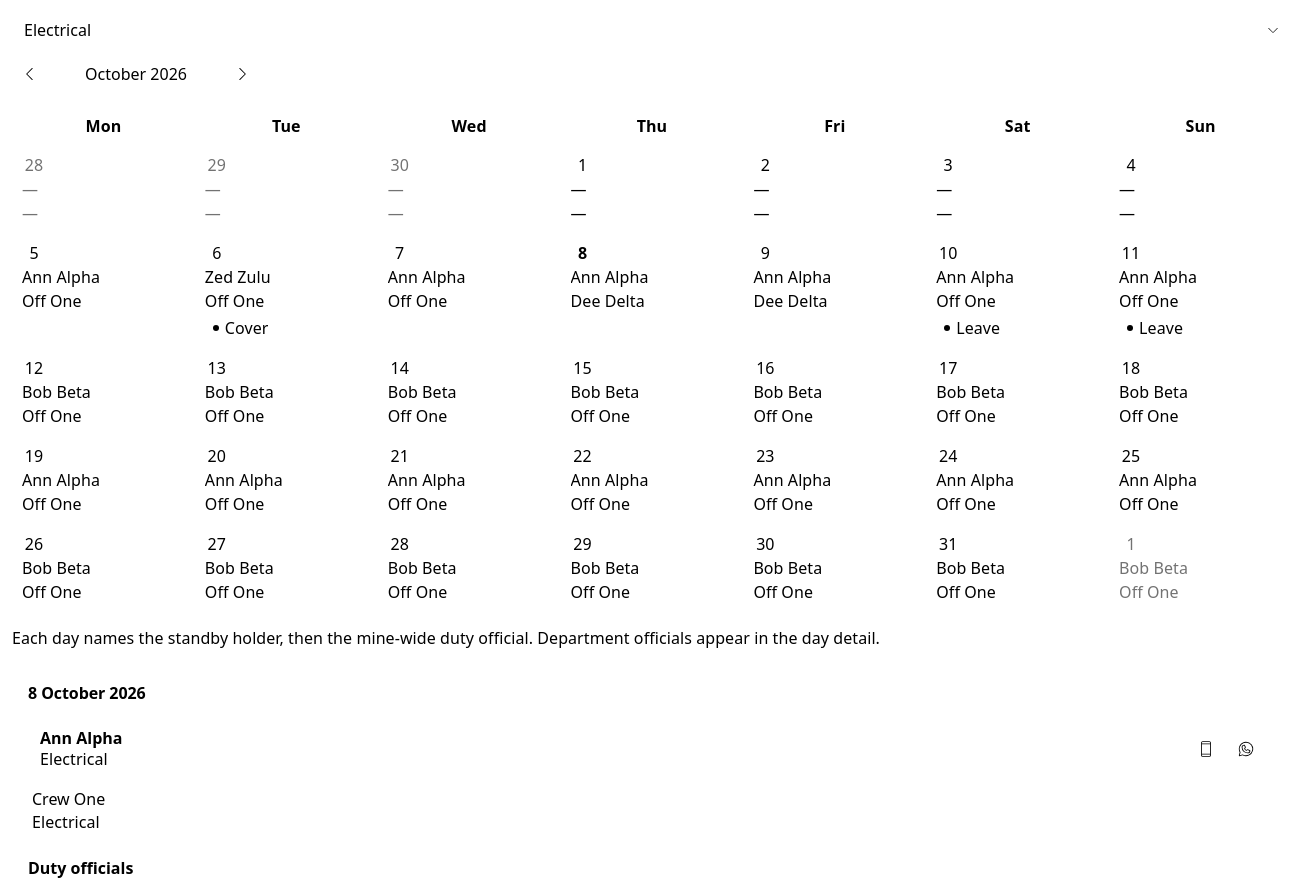
Test case: MonthBoard › says plainly when a day has nobody on standby or duty
Click the button named "30 Sept 2026" at [469, 189], box [382,149,556,229]
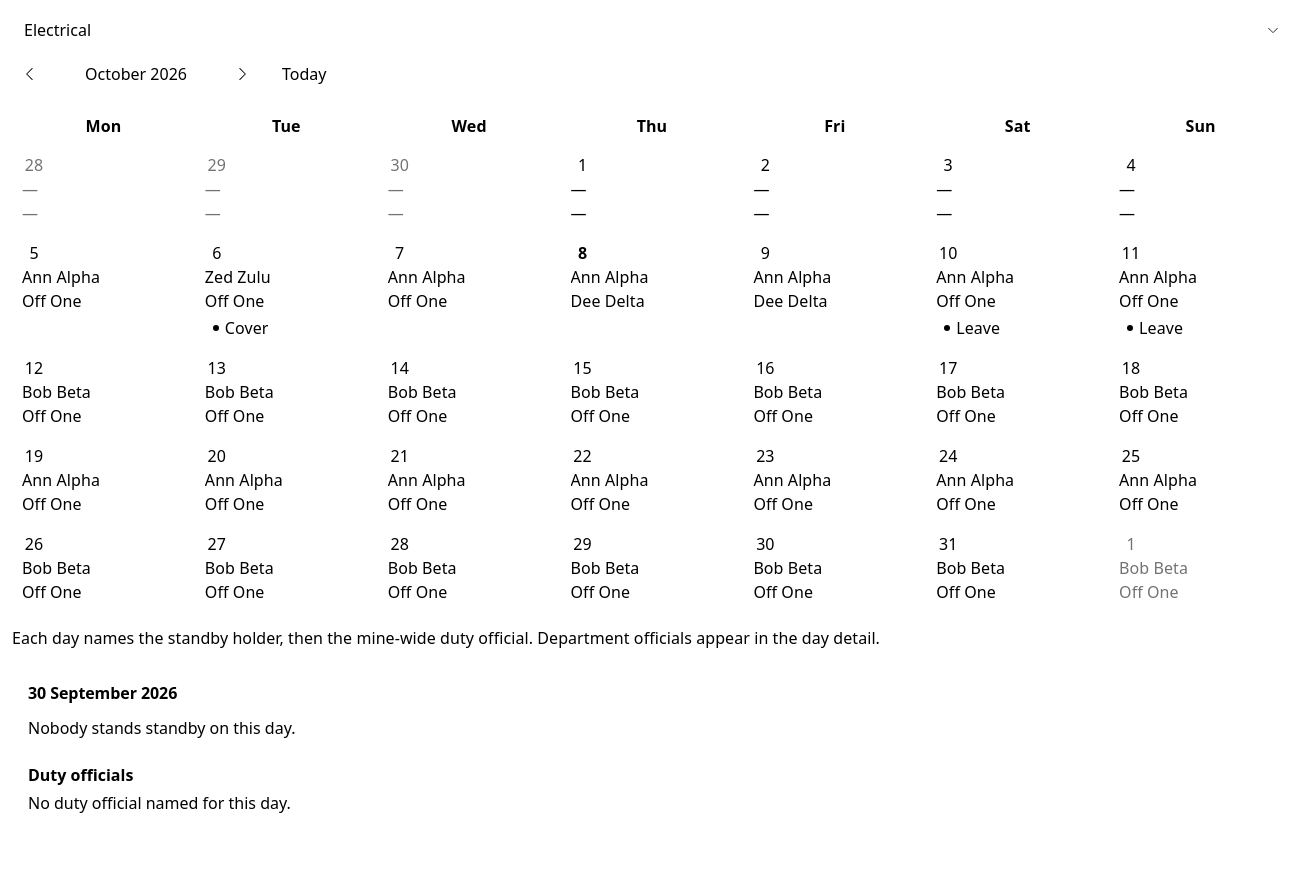
Expected: the text "Nobody stands standby on this day." is shown, [28,717,296,739]
Expected: the text "No duty official named for this day." is shown, [28,792,291,814]
